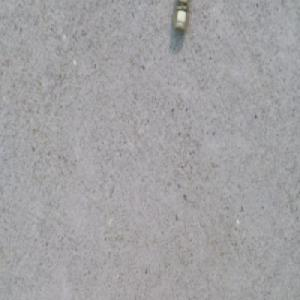BoltNutSet: (171, 0, 193, 32)
